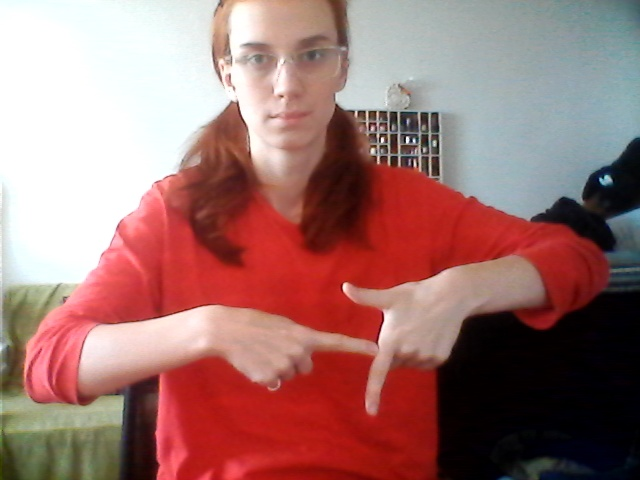f: (237, 264, 464, 421)
